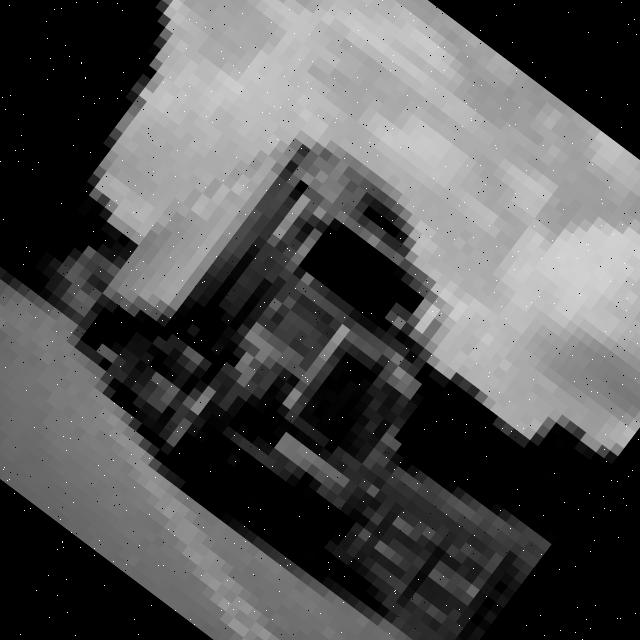trucks: (25, 74, 542, 596)
